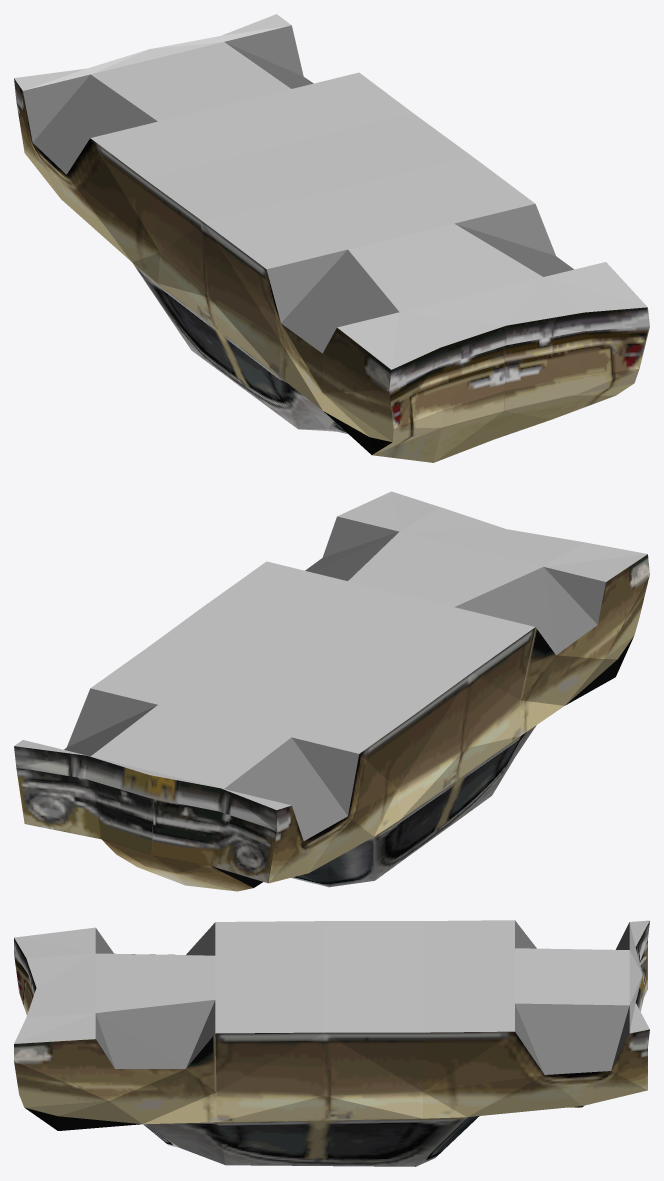
The model's file is HAVANA_model3_damaged.obj.
3 renders of one model, top to bottom at view 1: azimuth 30°, elevation 25°; view 2: azimuth 150°, elevation 25°; view 3: azimuth 270°, elevation 25°, orthographic. The views are drawn at different scales.
Parts seen in each view (by area): view 1: HAVANA_model3_damaged; view 2: HAVANA_model3_damaged; view 3: HAVANA_model3_damaged.
Boxes of the visible parts, x1=… form: HAVANA_model3_damaged: x1=14, y1=14, x2=649, y2=462; HAVANA_model3_damaged: x1=14, y1=491, x2=649, y2=891; HAVANA_model3_damaged: x1=14, y1=920, x2=649, y2=1166.
Bounding box in the file's own units: 270 × 172 × 622.
